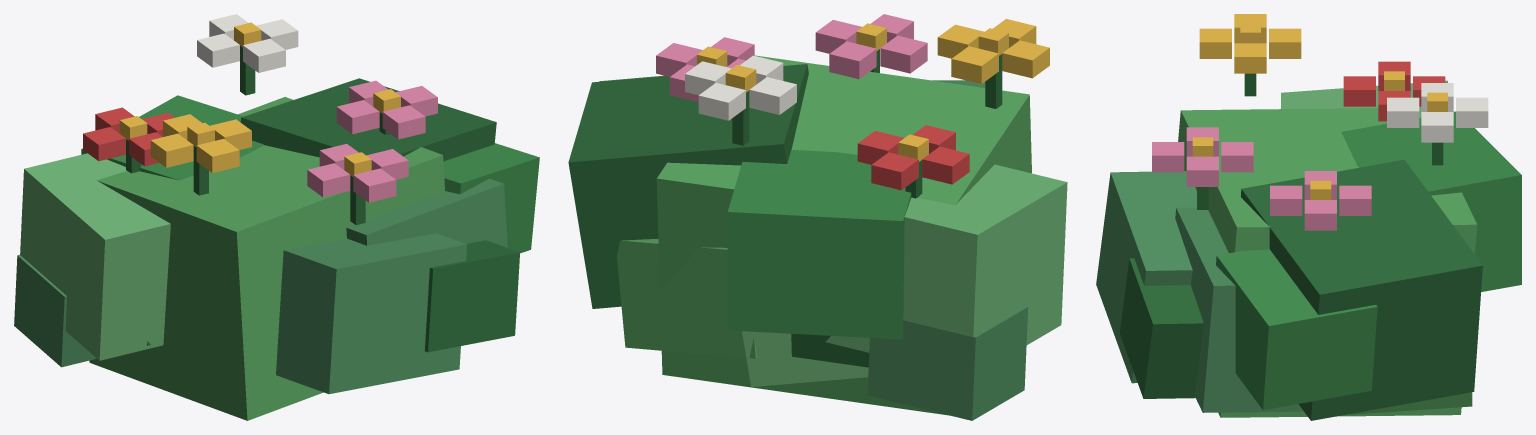
File: vn_nature_flower_bush.glb
The picture shows the model from 3 angles, left to right: view 1: azimuth 30°, elevation 25°; view 2: azimuth 150°, elevation 25°; view 3: azimuth 270°, elevation 25°; orthographic projection. The views are drawn at different scales.
Parts seen in each view (by area): view 1: flower_bush_leaves; view 2: flower_bush_leaves; view 3: flower_bush_leaves.
Boxes of the visible parts, box(x1,y1,x2,y2) form: flower_bush_leaves: box(14, 14, 539, 420); flower_bush_leaves: box(568, 14, 1067, 420); flower_bush_leaves: box(1096, 14, 1521, 420).
Bounding box in the file's own units: 0.9989 × 0.6203 × 0.8306.
